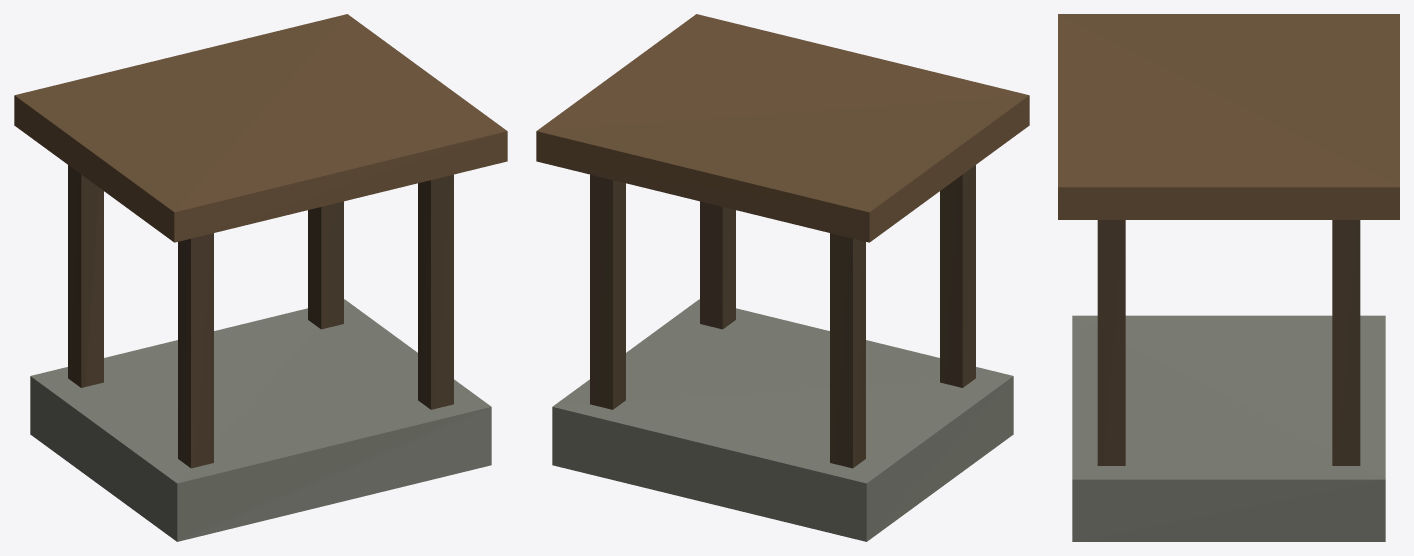
The model's file is SUP-01-2.glb.
3 renders of one model, left to right at view 1: azimuth 30°, elevation 25°; view 2: azimuth 150°, elevation 25°; view 3: azimuth 270°, elevation 25°, orthographic. The views are drawn at different scales.
Parts seen in each view (by area): view 1: city-details/SUP-01-2; view 2: city-details/SUP-01-2; view 3: city-details/SUP-01-2.
Part boxes in pixels (box(x1,y1,x2,y2)): city-details/SUP-01-2: box(14, 14, 507, 541); city-details/SUP-01-2: box(536, 14, 1029, 541); city-details/SUP-01-2: box(1058, 14, 1399, 541).
Size of the model in its own units: 1.61 by 1.57 by 1.34.
